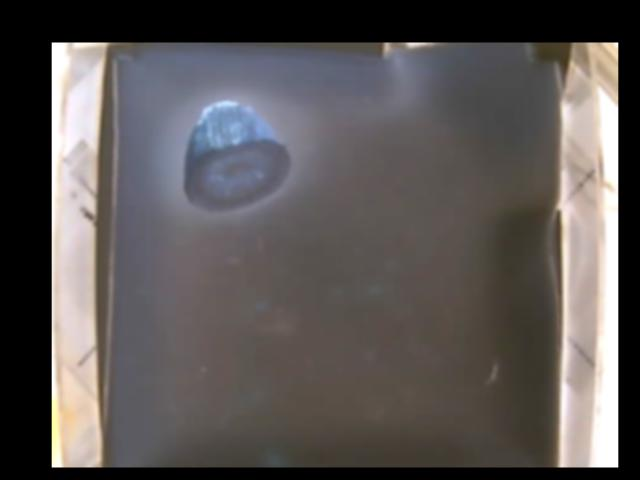Mooli: (182, 102, 291, 214)
